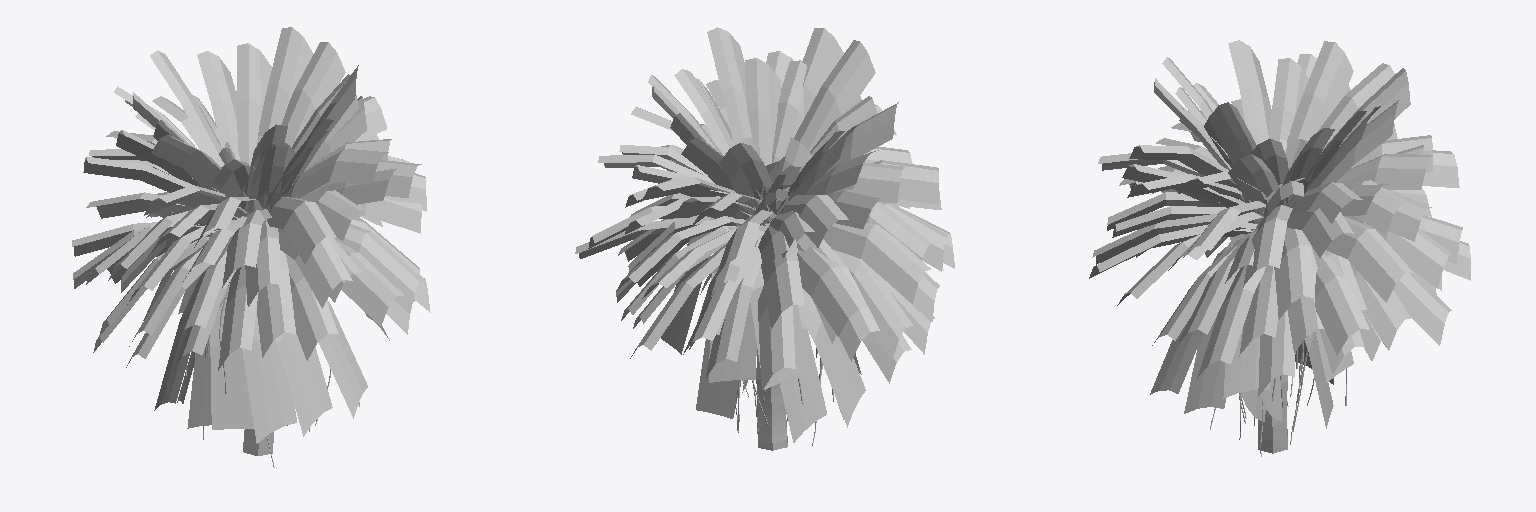
The model's file is palm2_leaves.obj.
The picture shows the model from 3 angles: view 1: azimuth 30°, elevation 25°; view 2: azimuth 150°, elevation 25°; view 3: azimuth 270°, elevation 25°; orthographic projection.
Visible parts, largest first — view 1: Date_Palm.001; view 2: Date_Palm.001; view 3: Date_Palm.001.
Part boxes in pixels (bbox=[...]): Date_Palm.001: bbox=[72, 27, 430, 467]; Date_Palm.001: bbox=[575, 27, 954, 450]; Date_Palm.001: bbox=[1089, 40, 1470, 456].
Bounding box in the file's own units: 8.68 × 9.92 × 8.99.